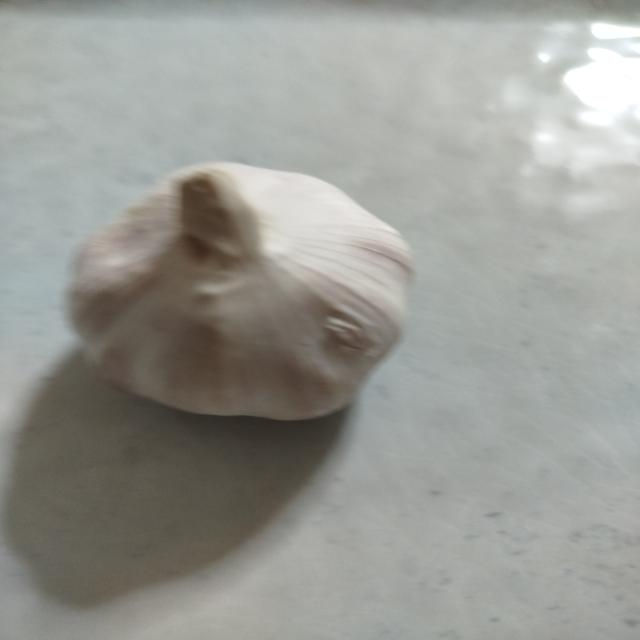garlic: (64, 160, 416, 422)
